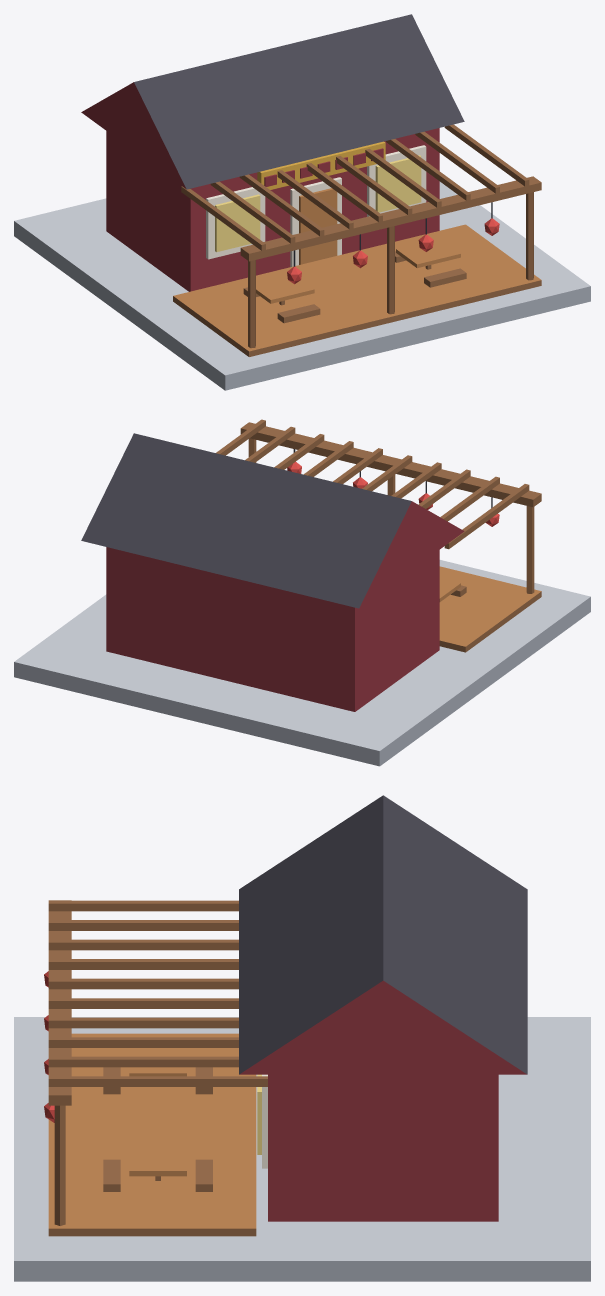
The model's file is shop_restaurant.glb.
The picture shows the model from 3 angles, top to bottom: view 1: azimuth 30°, elevation 25°; view 2: azimuth 150°, elevation 25°; view 3: azimuth 270°, elevation 25°; orthographic projection. The views are drawn at different scales.
Visible parts, largest first — view 1: shop_restaurant; view 2: shop_restaurant; view 3: shop_restaurant.
Boxes of the visible parts, x1,y1,x2,y2 form: shop_restaurant: (14,14,590,390); shop_restaurant: (14,419,590,766); shop_restaurant: (14,795,590,1281).
Bounding box in the file's own units: 1 × 0.52 × 1.
